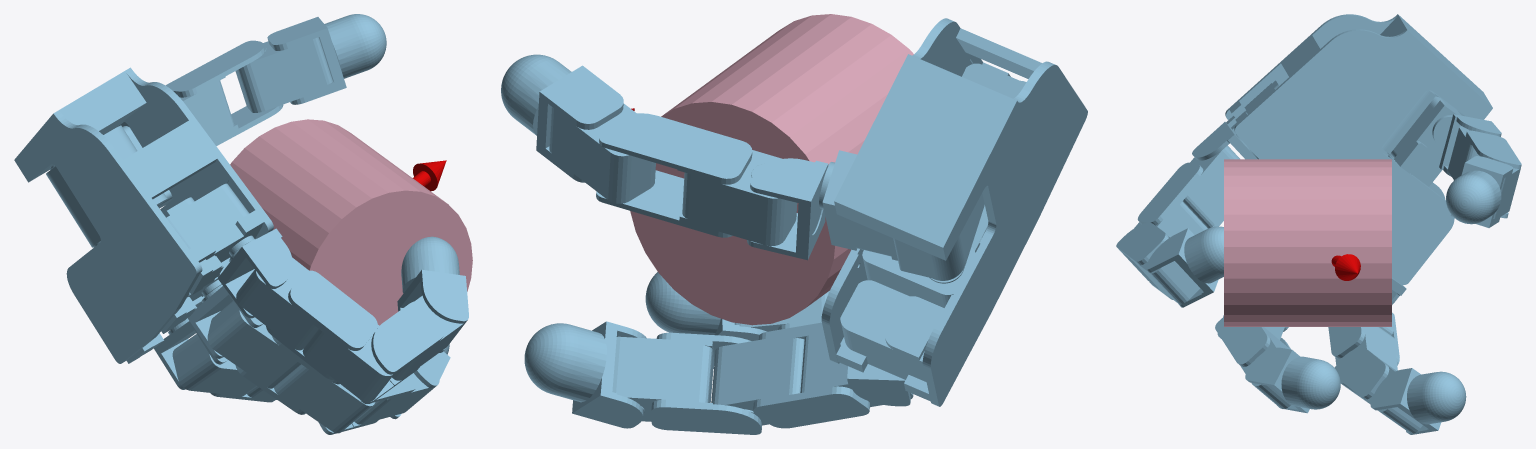
3 views of the same model, side by side, from view 1: azimuth 30°, elevation 25°; view 2: azimuth 150°, elevation 25°; view 3: azimuth 270°, elevation 25° (orthographic). The views are drawn at different scales.
Visible parts, largest first — view 1: world, cylinder_medium.stl; view 2: world, cylinder_medium.stl; view 3: world, cylinder_medium.stl.
Boxes of the visible parts, bbox=[...] form: world: bbox=[14, 14, 468, 434]; cylinder_medium.stl: bbox=[230, 119, 472, 325]; world: bbox=[501, 18, 1087, 434]; cylinder_medium.stl: bbox=[630, 14, 913, 325]; world: bbox=[1116, 14, 1521, 434]; cylinder_medium.stl: bbox=[1224, 159, 1391, 326].
Bounding box in the file's own units: 0.1766 × 0.1641 × 0.1933.
